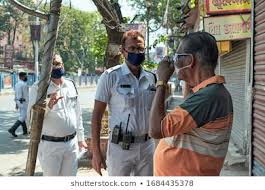mask: (173, 31, 216, 79), (122, 34, 145, 66), (44, 54, 63, 76), (18, 72, 26, 81)
